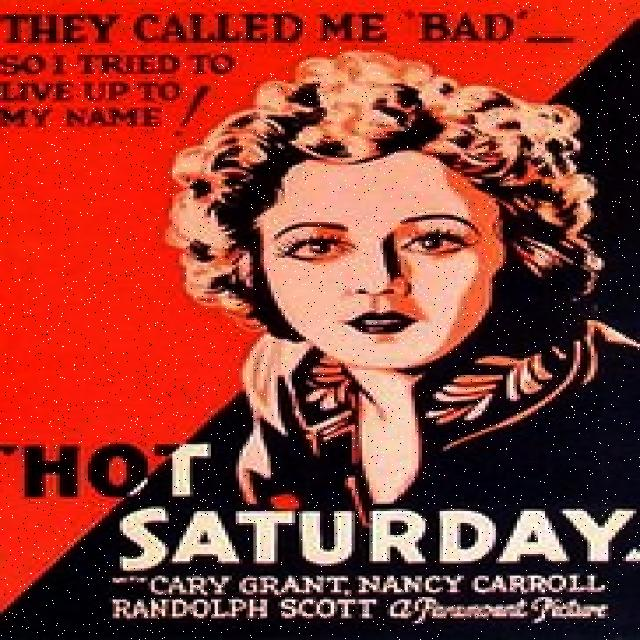movie-judul: (4, 437, 640, 570)
picture: (180, 66, 640, 420)
